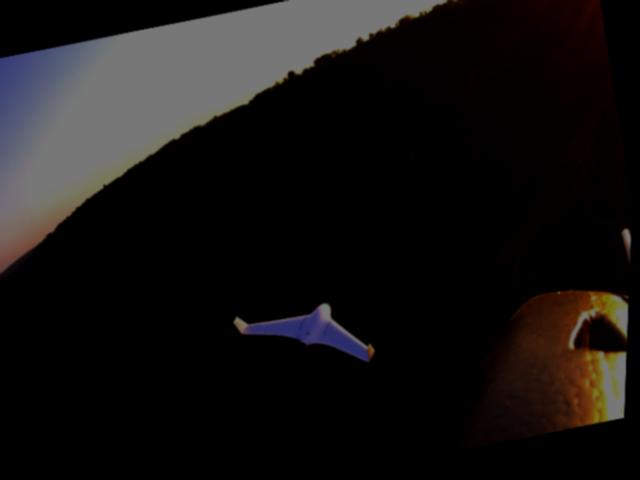plane: (231, 289, 381, 388)
